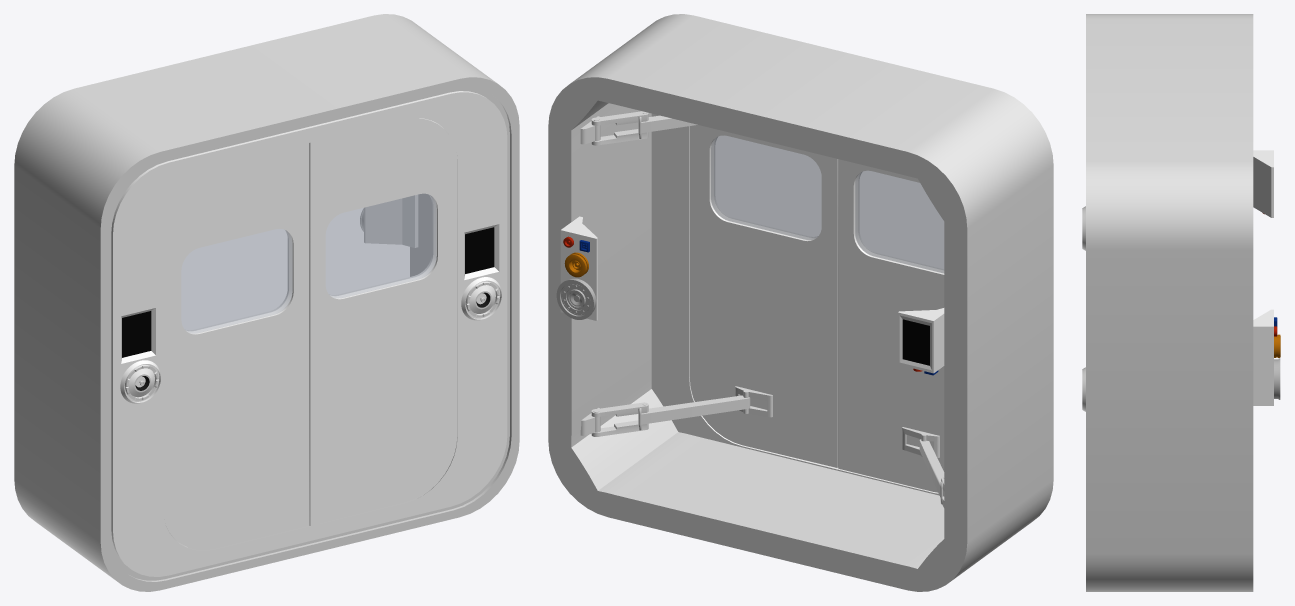
The model's file is DockableDoor.gltf.
The picture shows the model from 3 angles, left to right: view 1: azimuth 30°, elevation 25°; view 2: azimuth 150°, elevation 25°; view 3: azimuth 270°, elevation 25°; orthographic projection. The views are drawn at different scales.
Parts seen in each view (by area): view 1: door-frame, door-right, door-left; view 2: door-frame, door-right, door-left, hinge-right-2-arm, hinge-right-1-arm, hinge-left-2-arm; view 3: door-frame.
Boxes of the visible parts, x1,y1,x2,y2 form: door-frame: (14, 14, 519, 591); door-right: (309, 118, 456, 525); door-left: (162, 143, 308, 549); door-frame: (548, 14, 1053, 591); door-right: (689, 125, 838, 467); door-left: (838, 159, 944, 492); hinge-right-2-arm: (638, 115, 750, 430); hinge-right-1-arm: (591, 111, 648, 436); hinge-left-2-arm: (919, 439, 944, 504); door-frame: (1082, 14, 1280, 591).
Size of the model in its own units: 2.8 by 2.8 by 1.19.
